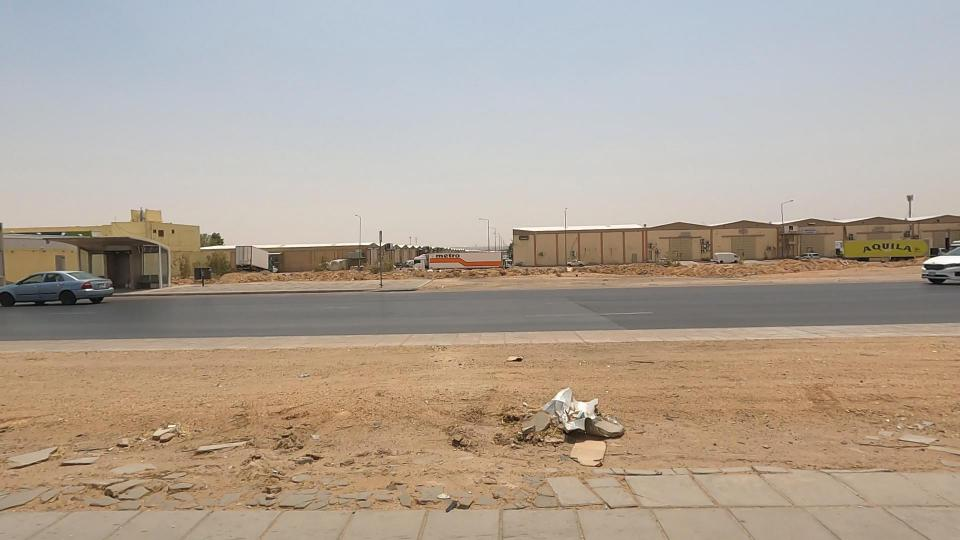GARBAGE: (430, 345, 696, 505), (113, 401, 222, 469), (452, 334, 569, 396)
